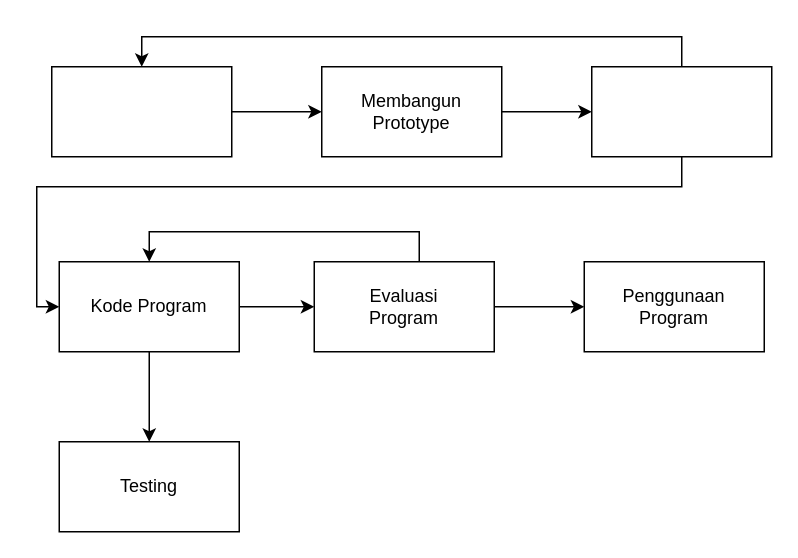
Some shapes in this 798 by 558 pixel diagram are drawn without their labels. The centre of each missing label's shape, as x and y in pixels:
Evaluasi Prototype: the point at 681,111
Pengumpulan Kebutuhan: the point at 141,111
